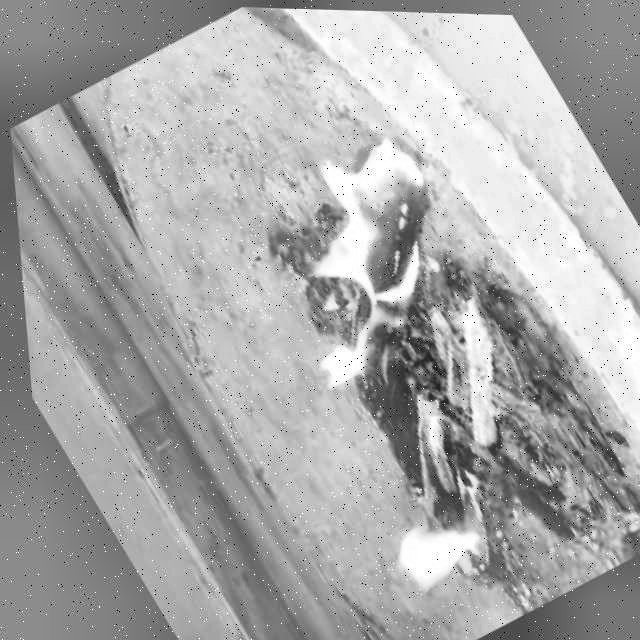Fire: (206, 110, 518, 420), (363, 488, 501, 611)
